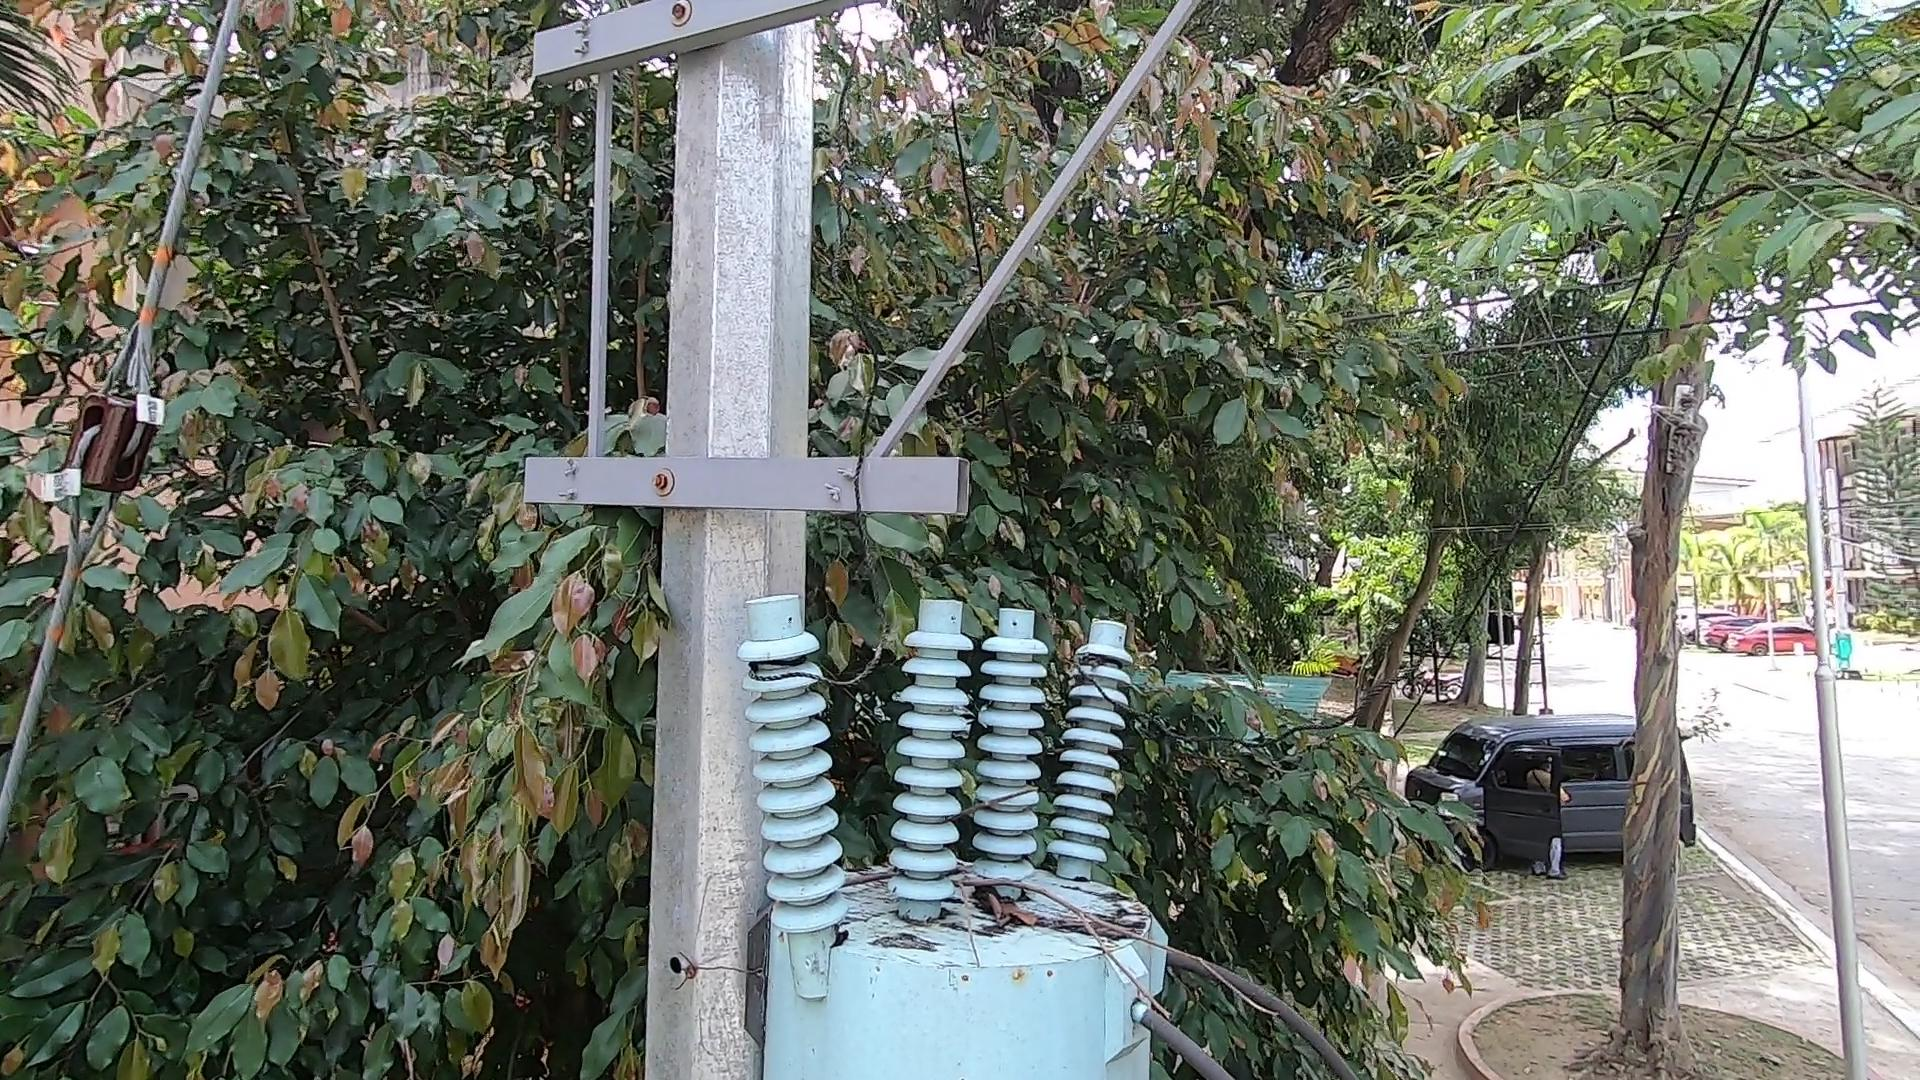leaf: (960, 878, 1058, 942)
tree branch: (836, 844, 1269, 1050)
